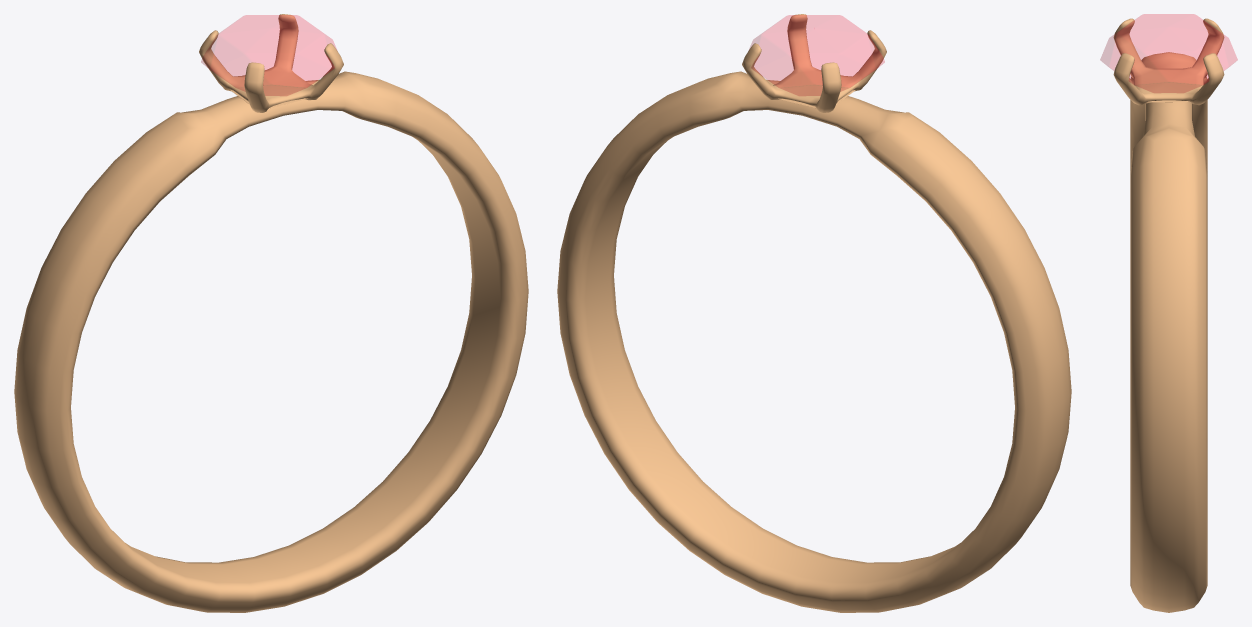
3 views of the same model, side by side, from view 1: azimuth 30°, elevation 25°; view 2: azimuth 150°, elevation 25°; view 3: azimuth 270°, elevation 25° (orthographic). The views are drawn at different scales.
Visible parts, largest first — view 1: ring, stone; view 2: ring, stone; view 3: ring, stone.
Boxes of the visible parts, left/top/right/bottom form: ring: left=14, top=14, right=528, bottom=612; stone: left=201, top=15, right=336, bottom=95; ring: left=557, top=14, right=1071, bottom=612; stone: left=749, top=15, right=884, bottom=95; ring: left=1113, top=18, right=1224, bottom=612; stone: left=1100, top=14, right=1237, bottom=92.
Bounding box in the file's own units: 2.27 × 2.5 × 0.5577.
